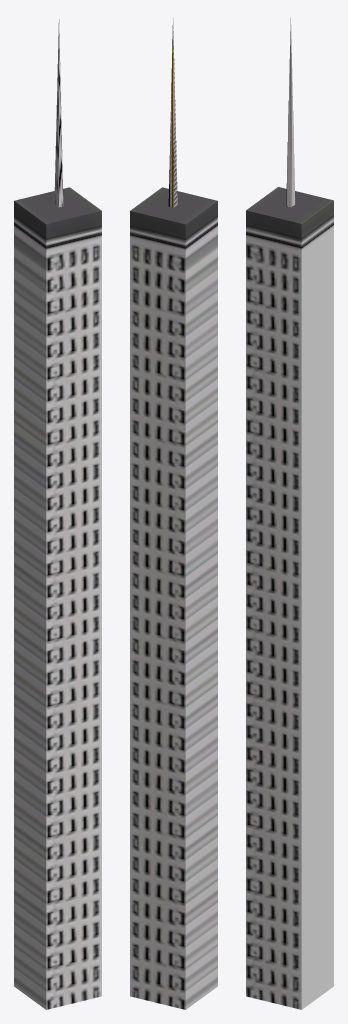
Rendered from BusBuild.glb.
3 renders of one model, left to right at view 1: azimuth 30°, elevation 25°; view 2: azimuth 150°, elevation 25°; view 3: azimuth 330°, elevation 25°, orthographic.
Visible parts, largest first — view 1: BusBuild; view 2: BusBuild; view 3: BusBuild.
Boxes of the visible parts, bbox=[...] form: BusBuild: bbox=[14, 19, 101, 1009]; BusBuild: bbox=[130, 18, 217, 1009]; BusBuild: bbox=[246, 18, 333, 1009].
Bounding box in the file's own units: 112 × 1875 × 112.
Materials: 1 (1 with a texture image).
